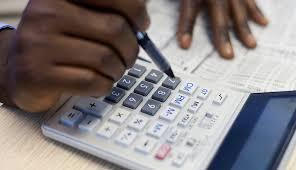Calculator: (36, 46, 296, 170)
